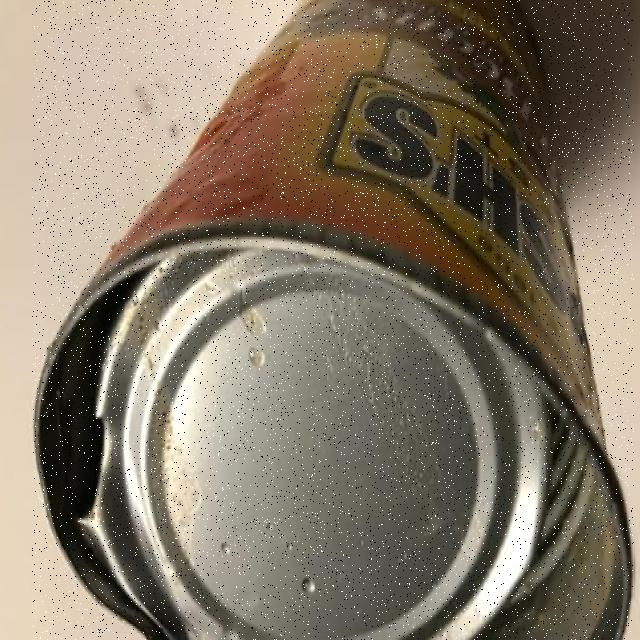metal: (33, 0, 634, 640)
